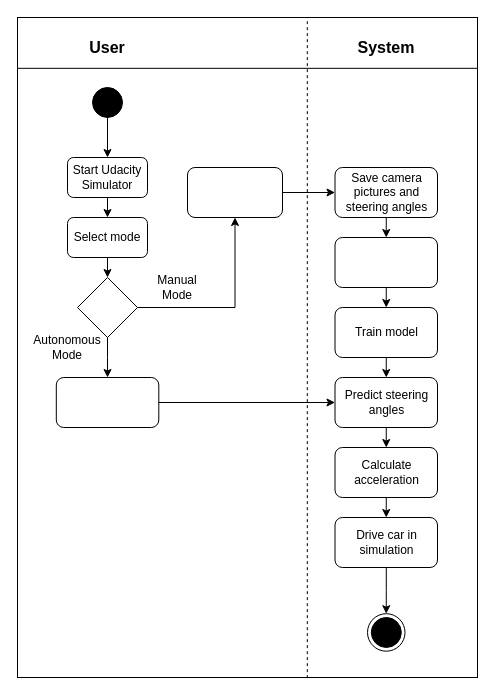
Some shapes in this 496 by 697 pixel diagram are drawn without their labels. The centre of each missing label's shape, as x and y in pixels:
Capture camera pictures: the point at 107,402
Drive car manually: the point at 234,192
Generate dataset: the point at 386,262
